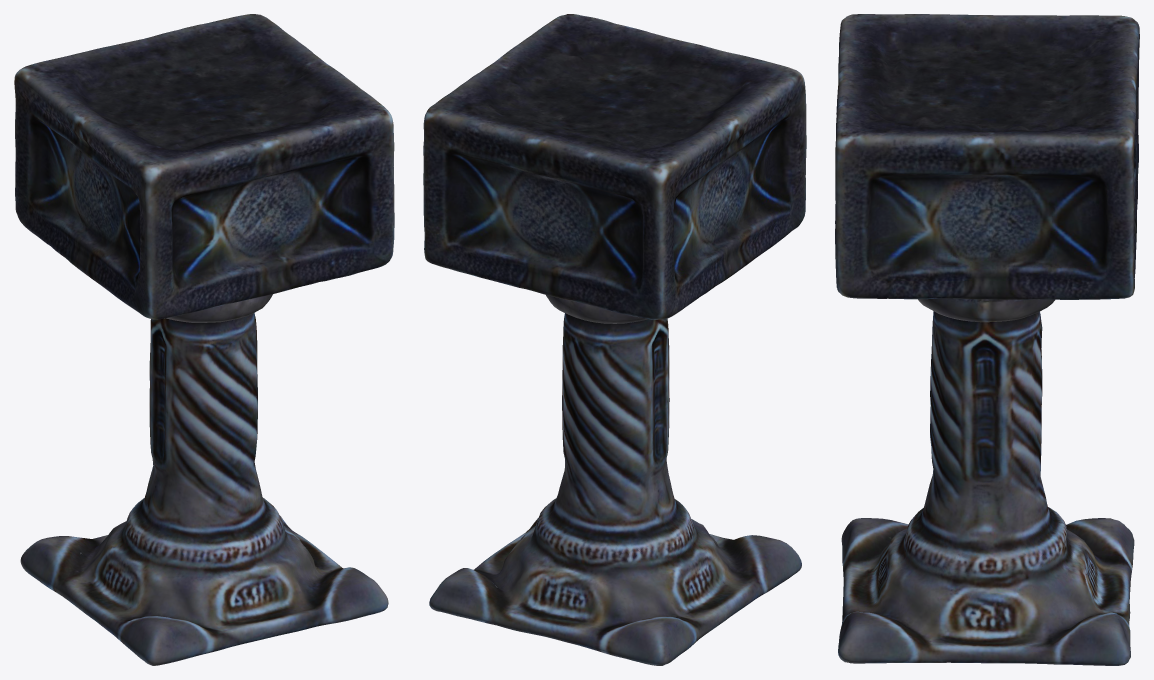
File: b23666988575_THE_ULTIMATE_SOURCE.fbx
The picture shows the model from 3 angles, left to right: view 1: azimuth 30°, elevation 25°; view 2: azimuth 150°, elevation 25°; view 3: azimuth 270°, elevation 25°; orthographic projection. The views are drawn at different scales.
Parts seen in each view (by area): view 1: mesh; view 2: mesh; view 3: mesh.
Boxes of the visible parts, x1,y1,x2,y2 form: mesh: (14, 14, 394, 665); mesh: (423, 14, 806, 665); mesh: (835, 14, 1139, 665).
Size of the model in its own units: 52.13 by 99.95 by 52.02.
